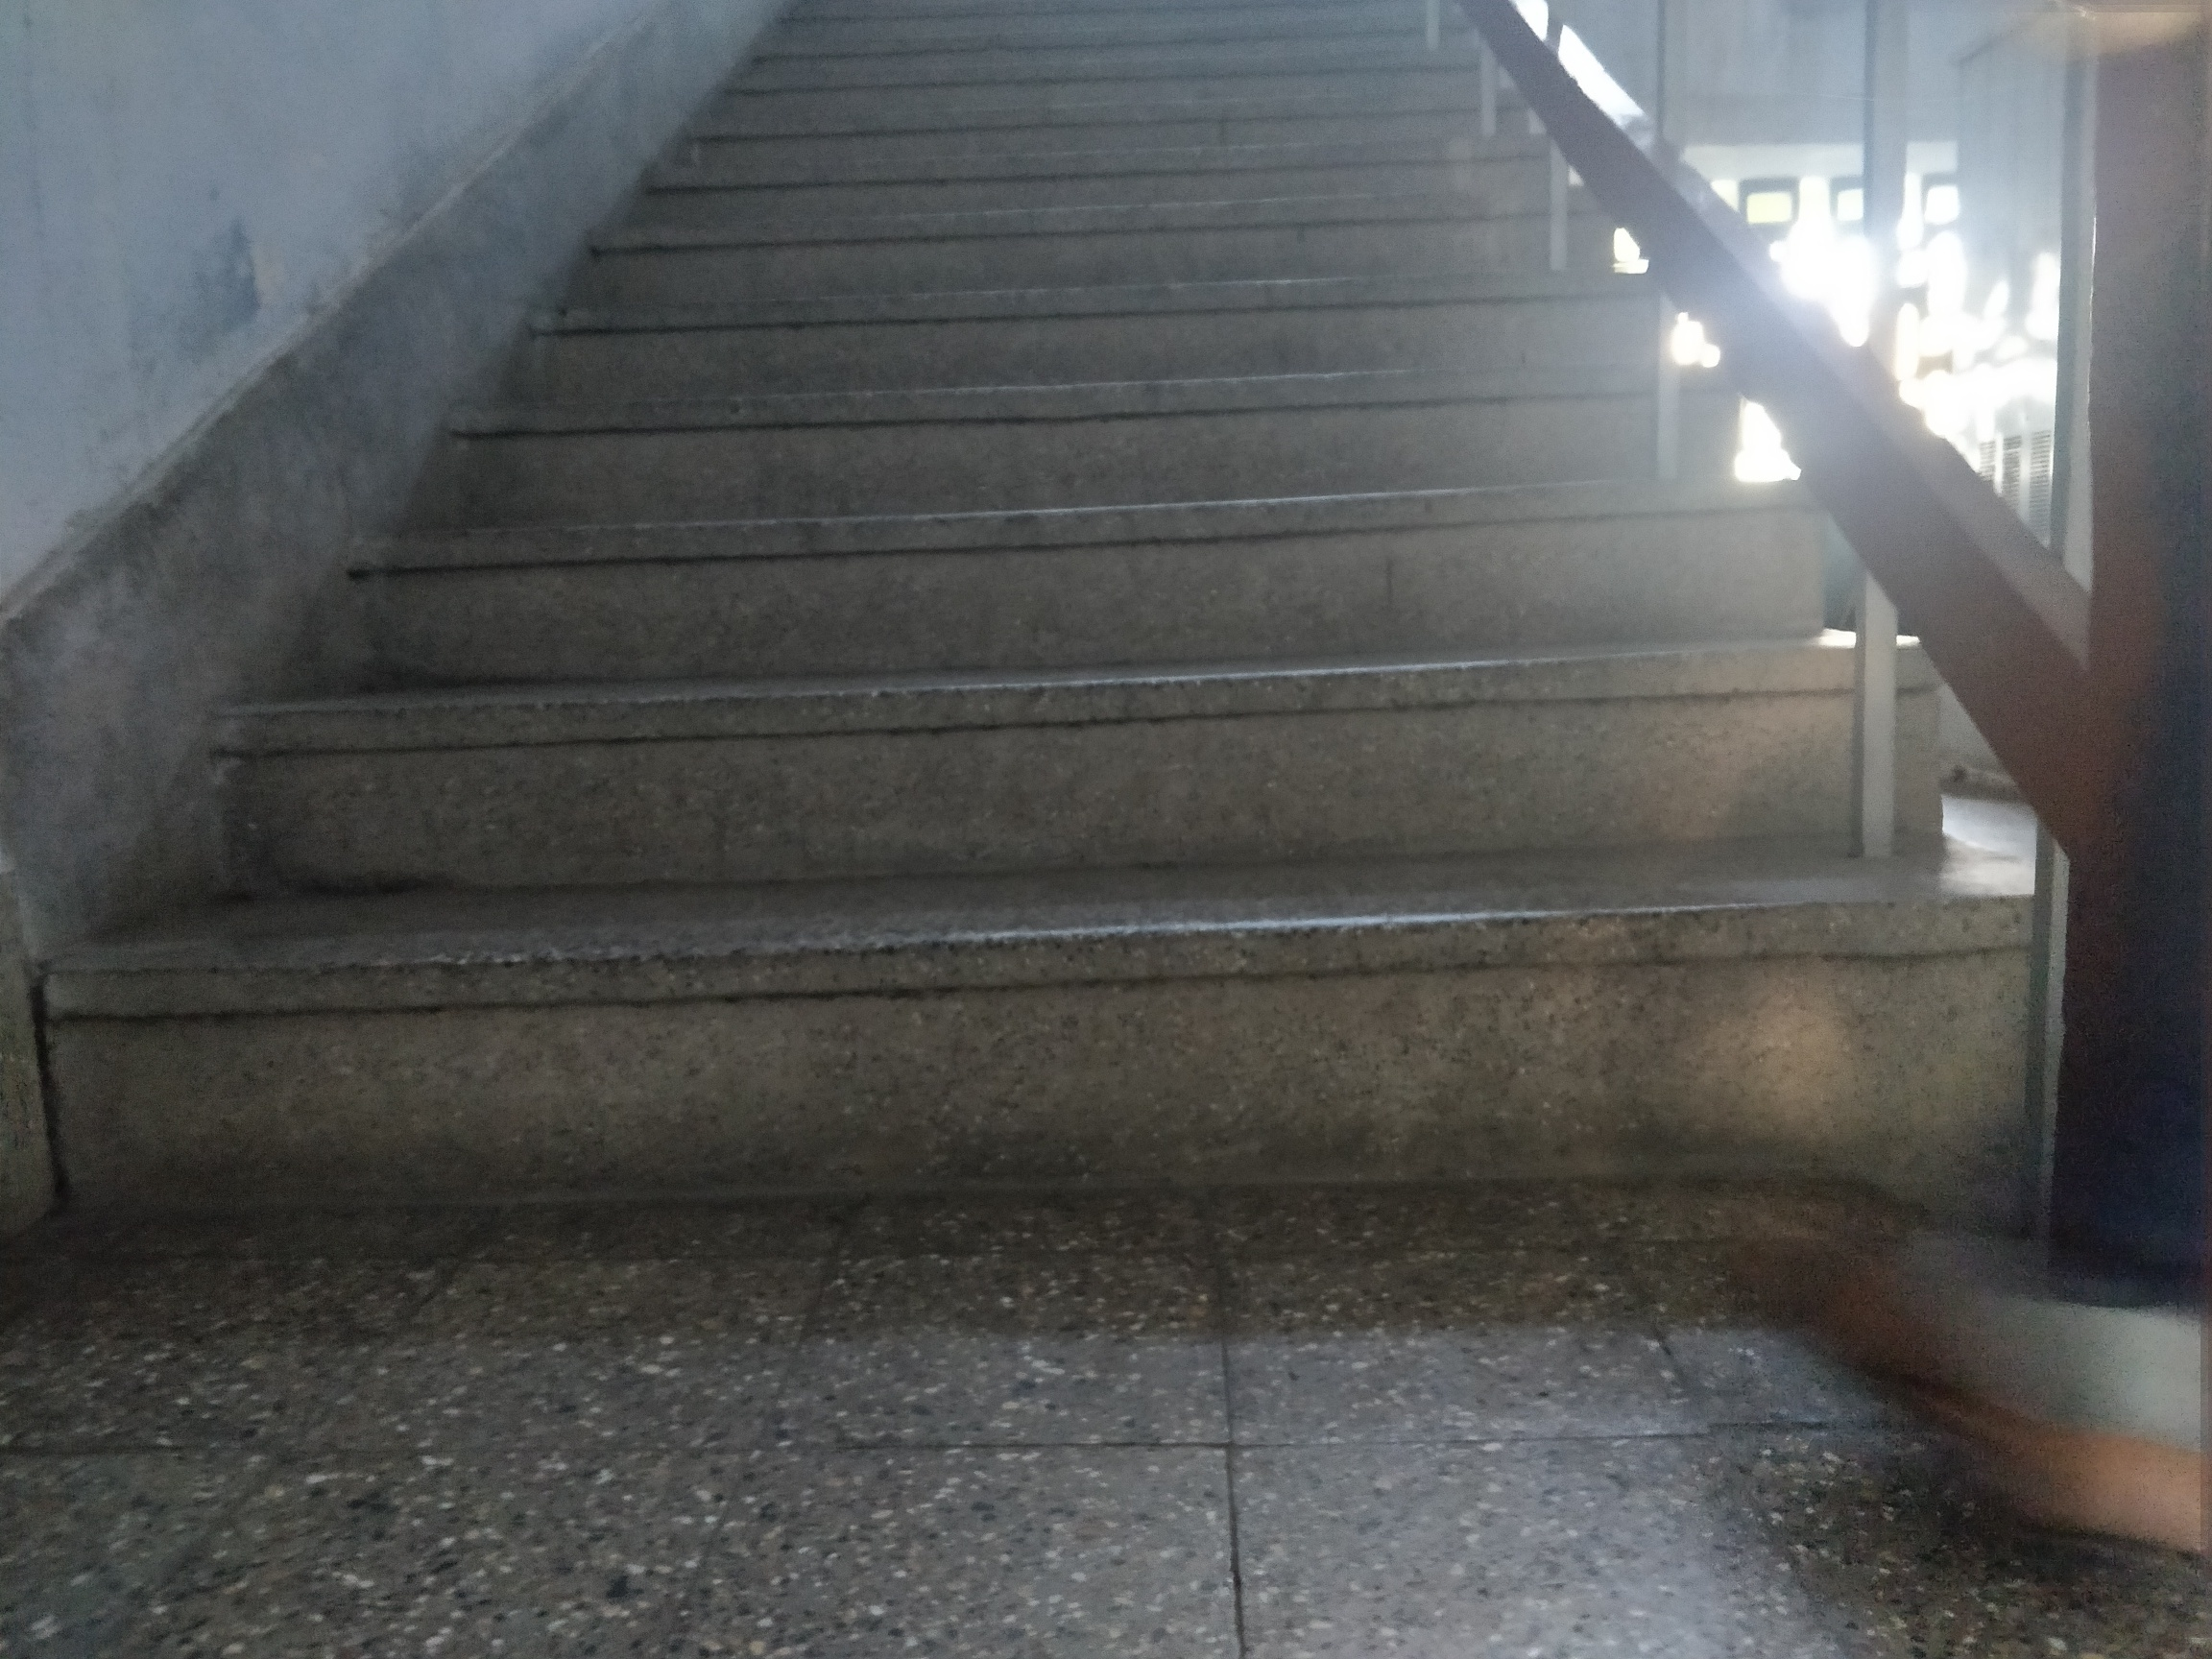stairs_up: (87, 21, 2026, 1220)
